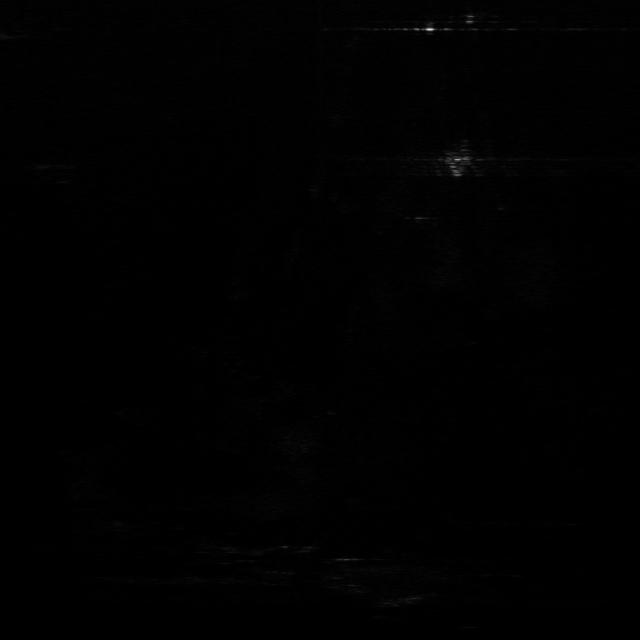rov: (442, 152, 478, 179)
